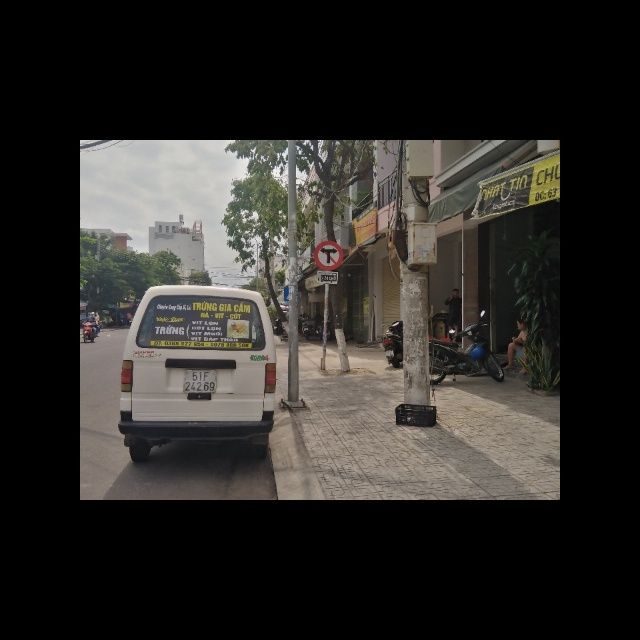Cấm rẽ trái và rẽ phải: (313, 240, 344, 271)
